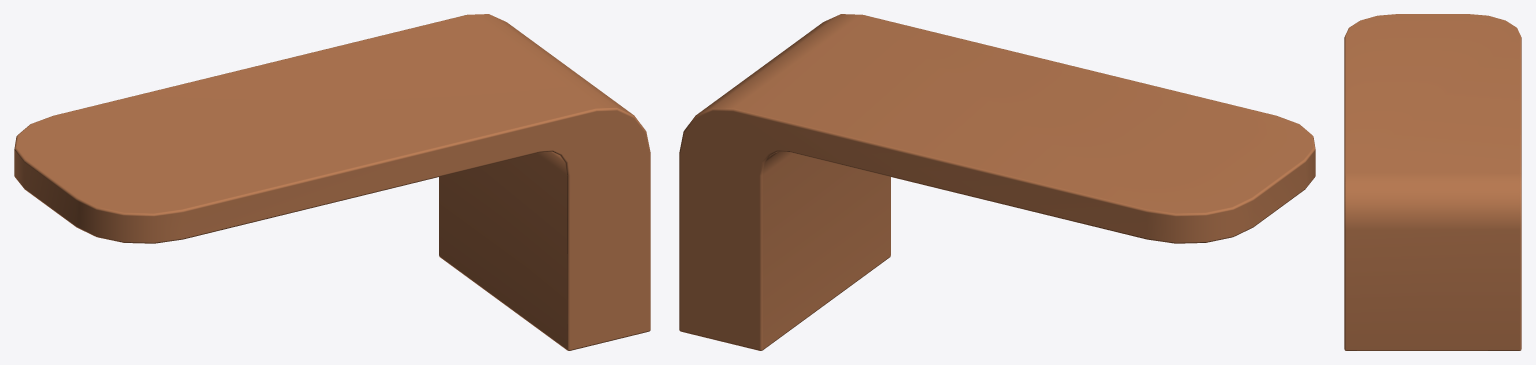
Rendered from Desk_Pluto.fbx.
The picture shows the model from 3 angles, left to right: view 1: azimuth 30°, elevation 25°; view 2: azimuth 150°, elevation 25°; view 3: azimuth 270°, elevation 25°; orthographic projection. The views are drawn at different scales.
Parts seen in each view (by area): view 1: Plane.008; view 2: Plane.008; view 3: Plane.008.
Part boxes in pixels (x1,y1,x2,y2): Plane.008: (14, 14, 650, 350); Plane.008: (679, 14, 1315, 350); Plane.008: (1344, 14, 1521, 350).
Size of the model in its own units: 80.5 by 33.87 by 33.87.
